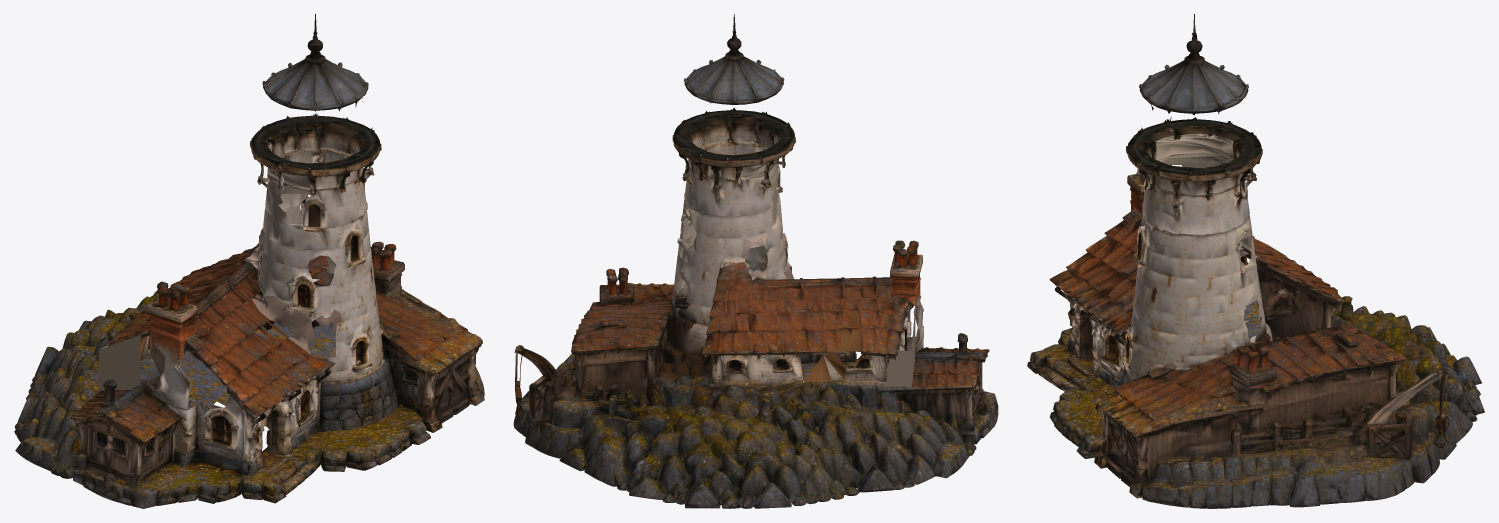
The model's file is lighthouse_exterior_v4.glb.
The picture shows the model from 3 angles, left to right: view 1: azimuth 30°, elevation 25°; view 2: azimuth 150°, elevation 25°; view 3: azimuth 270°, elevation 25°; orthographic projection. The views are drawn at different scales.
Visible parts, largest first — view 1: material; view 2: material; view 3: material.
Boxes of the visible parts, x1,y1,x2,y2 form: material: [14, 14, 484, 508]; material: [513, 14, 998, 508]; material: [1027, 14, 1484, 508].
Bounding box in the file's own units: 30.05 × 27 × 27.07.
1 material, 1 textured.
